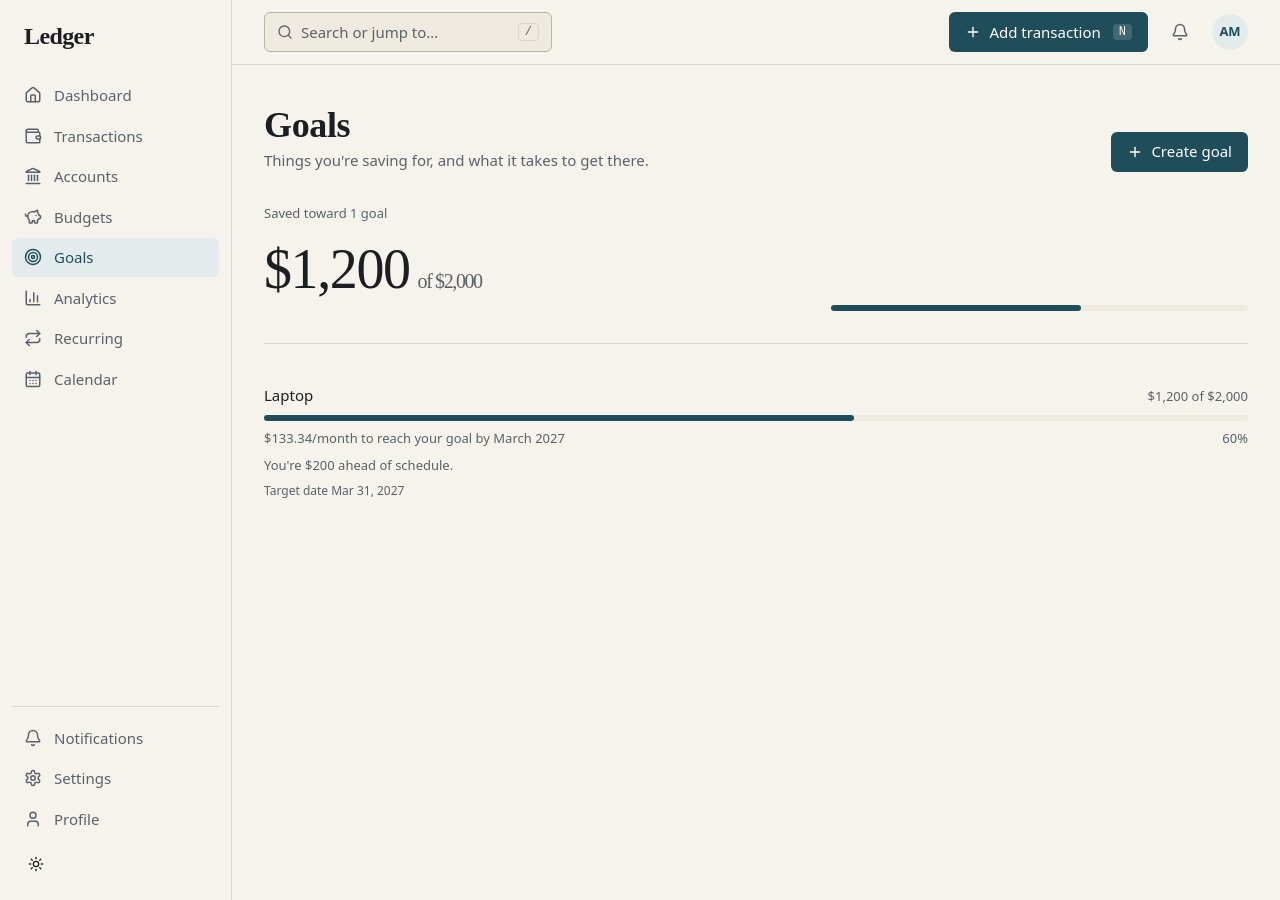
Test: goal drawer › adds money in exact minor units
Click the button with aria-label "Open Laptop goal": (289, 395) [252,368,1260,516]
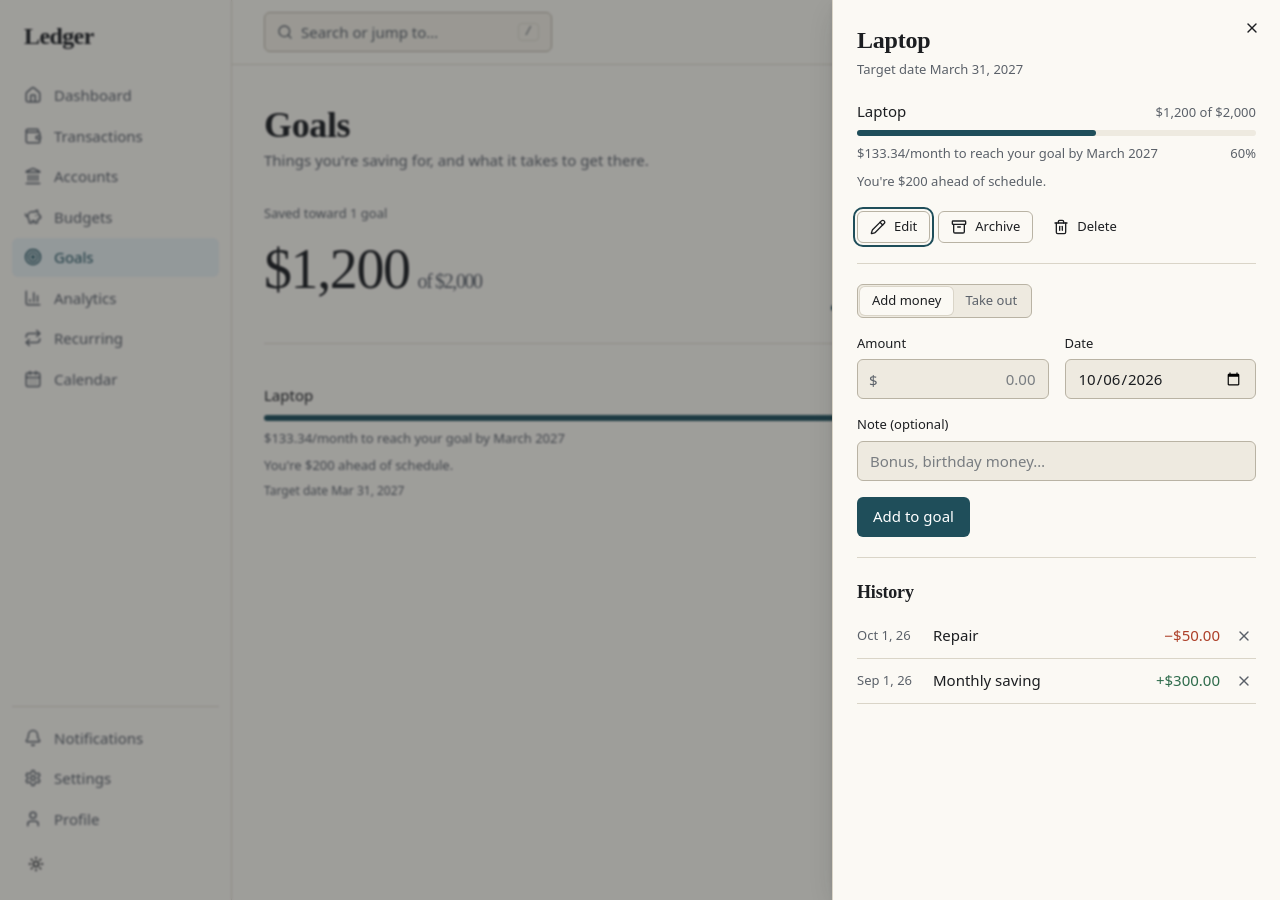
In the field labelled "Amount": (953, 379) [857,359,1048,399], type "75.25"
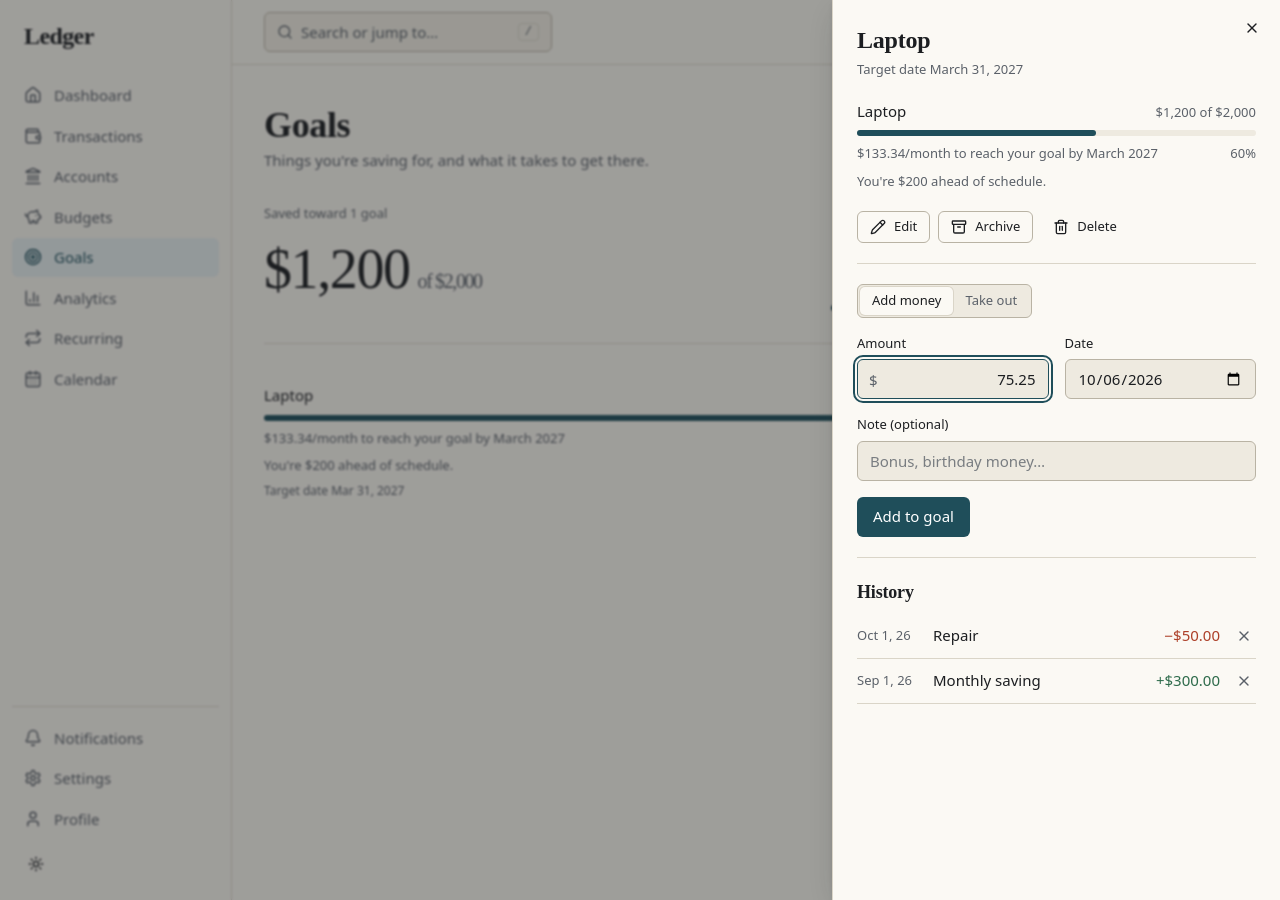
In the field labelled "Note (optional)": (1056, 460) [857,440,1256,480], type "Bonus"
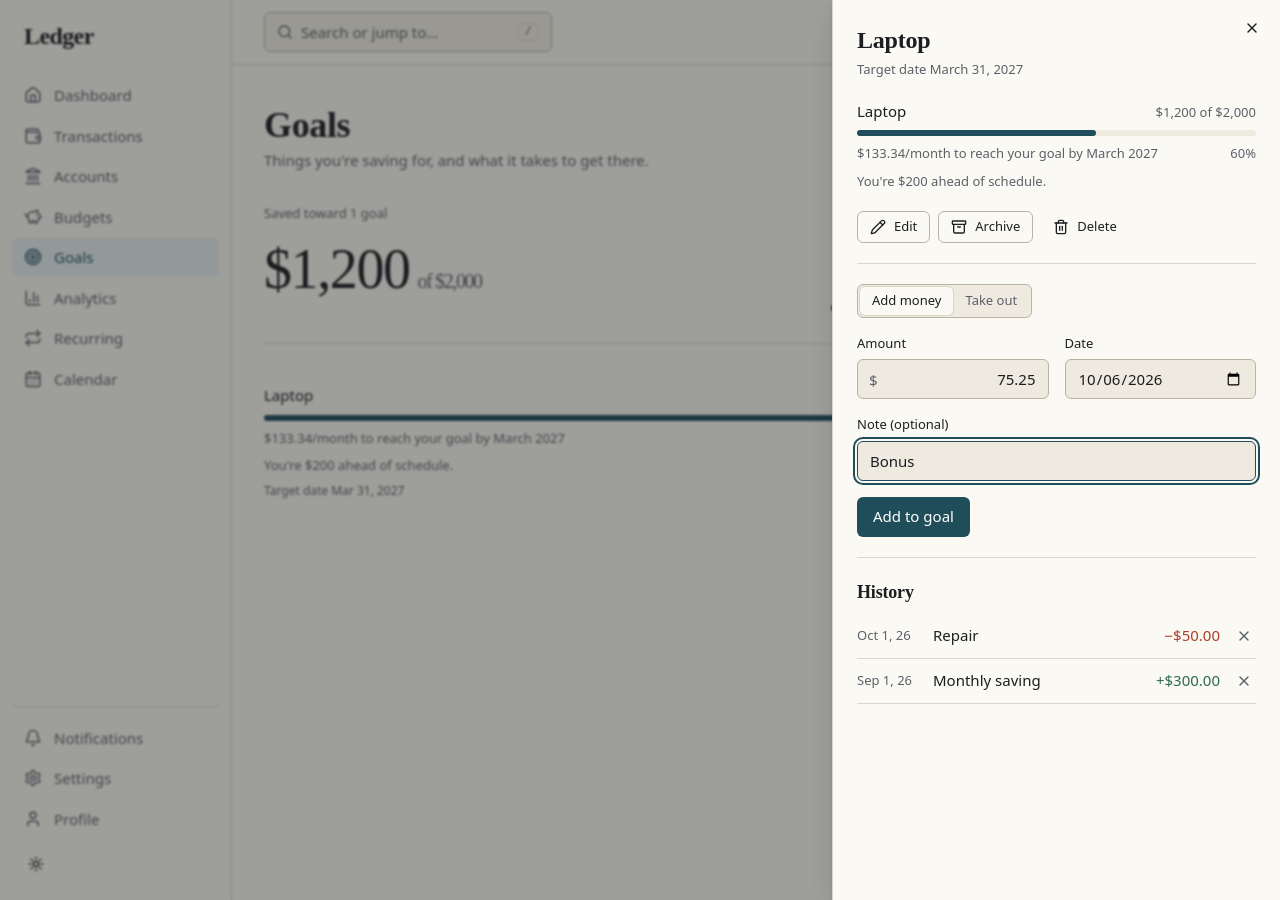
Click the button "Add to goal": (913, 516) [857,496,970,536]
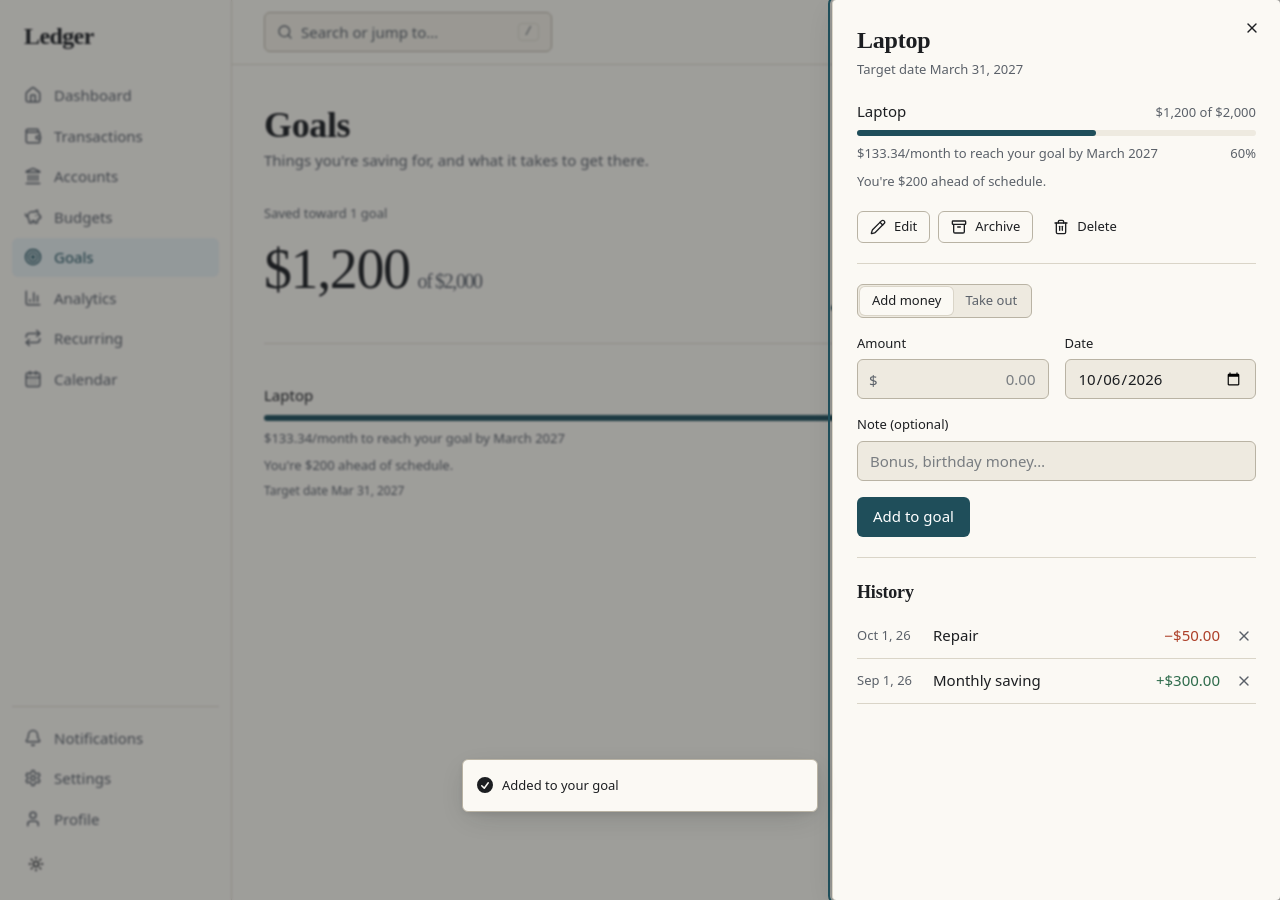
Now the text "Added to your goal" is shown, box [502,776,619,795]
